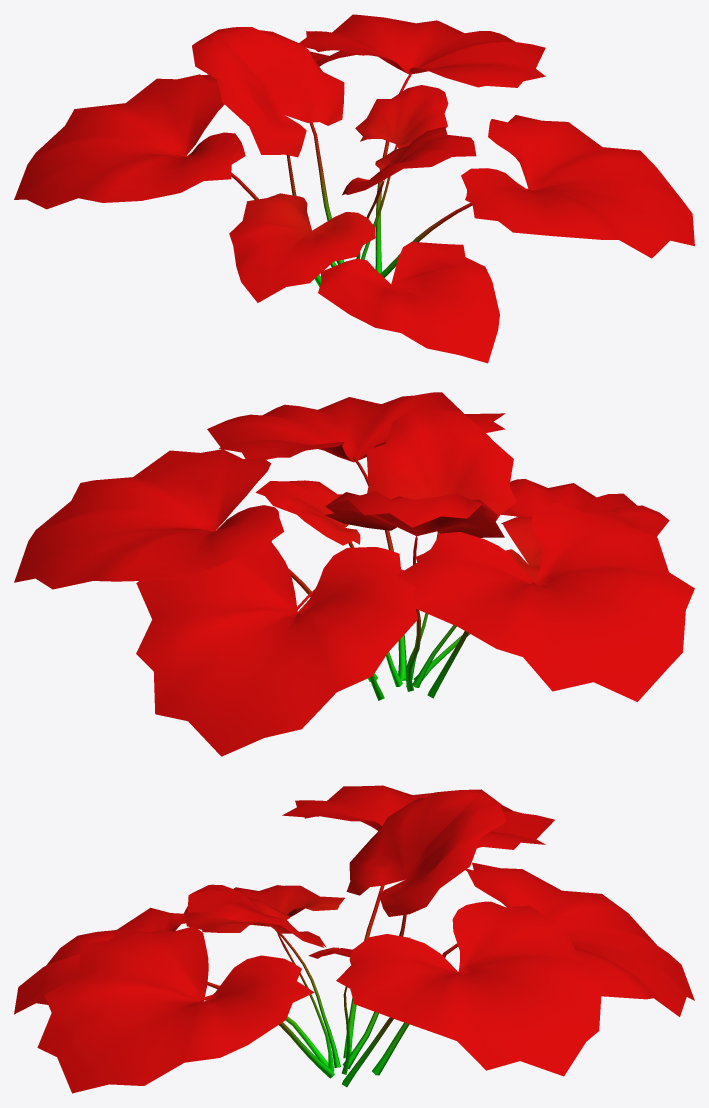
File: Coltsfoot_LOD1_Var10_xbtkdfvqx.fbx
3 renders of one model, top to bottom at view 1: azimuth 30°, elevation 25°; view 2: azimuth 150°, elevation 25°; view 3: azimuth 270°, elevation 25°, orthographic. The views are drawn at different scales.
Visible parts, largest first — view 1: _dx92_Var10_LOD1; view 2: _dx92_Var10_LOD1; view 3: _dx92_Var10_LOD1.
Part boxes in pixels (x1=…): _dx92_Var10_LOD1: x1=14, y1=14, x2=694, y2=363; _dx92_Var10_LOD1: x1=14, y1=392, x2=694, y2=756; _dx92_Var10_LOD1: x1=14, y1=785, x2=694, y2=1093.
Size of the model in its own units: 64.27 by 26.58 by 67.64.
